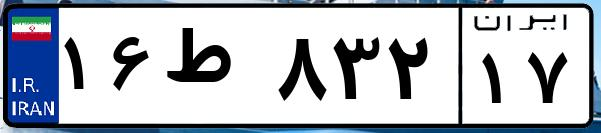1: (57, 26, 110, 100), (475, 38, 525, 113)
2: (385, 28, 445, 110)
3: (330, 28, 385, 110)
6: (110, 28, 158, 98)
7: (525, 38, 570, 115)
8: (270, 28, 330, 110)
ط: (158, 20, 270, 120)
